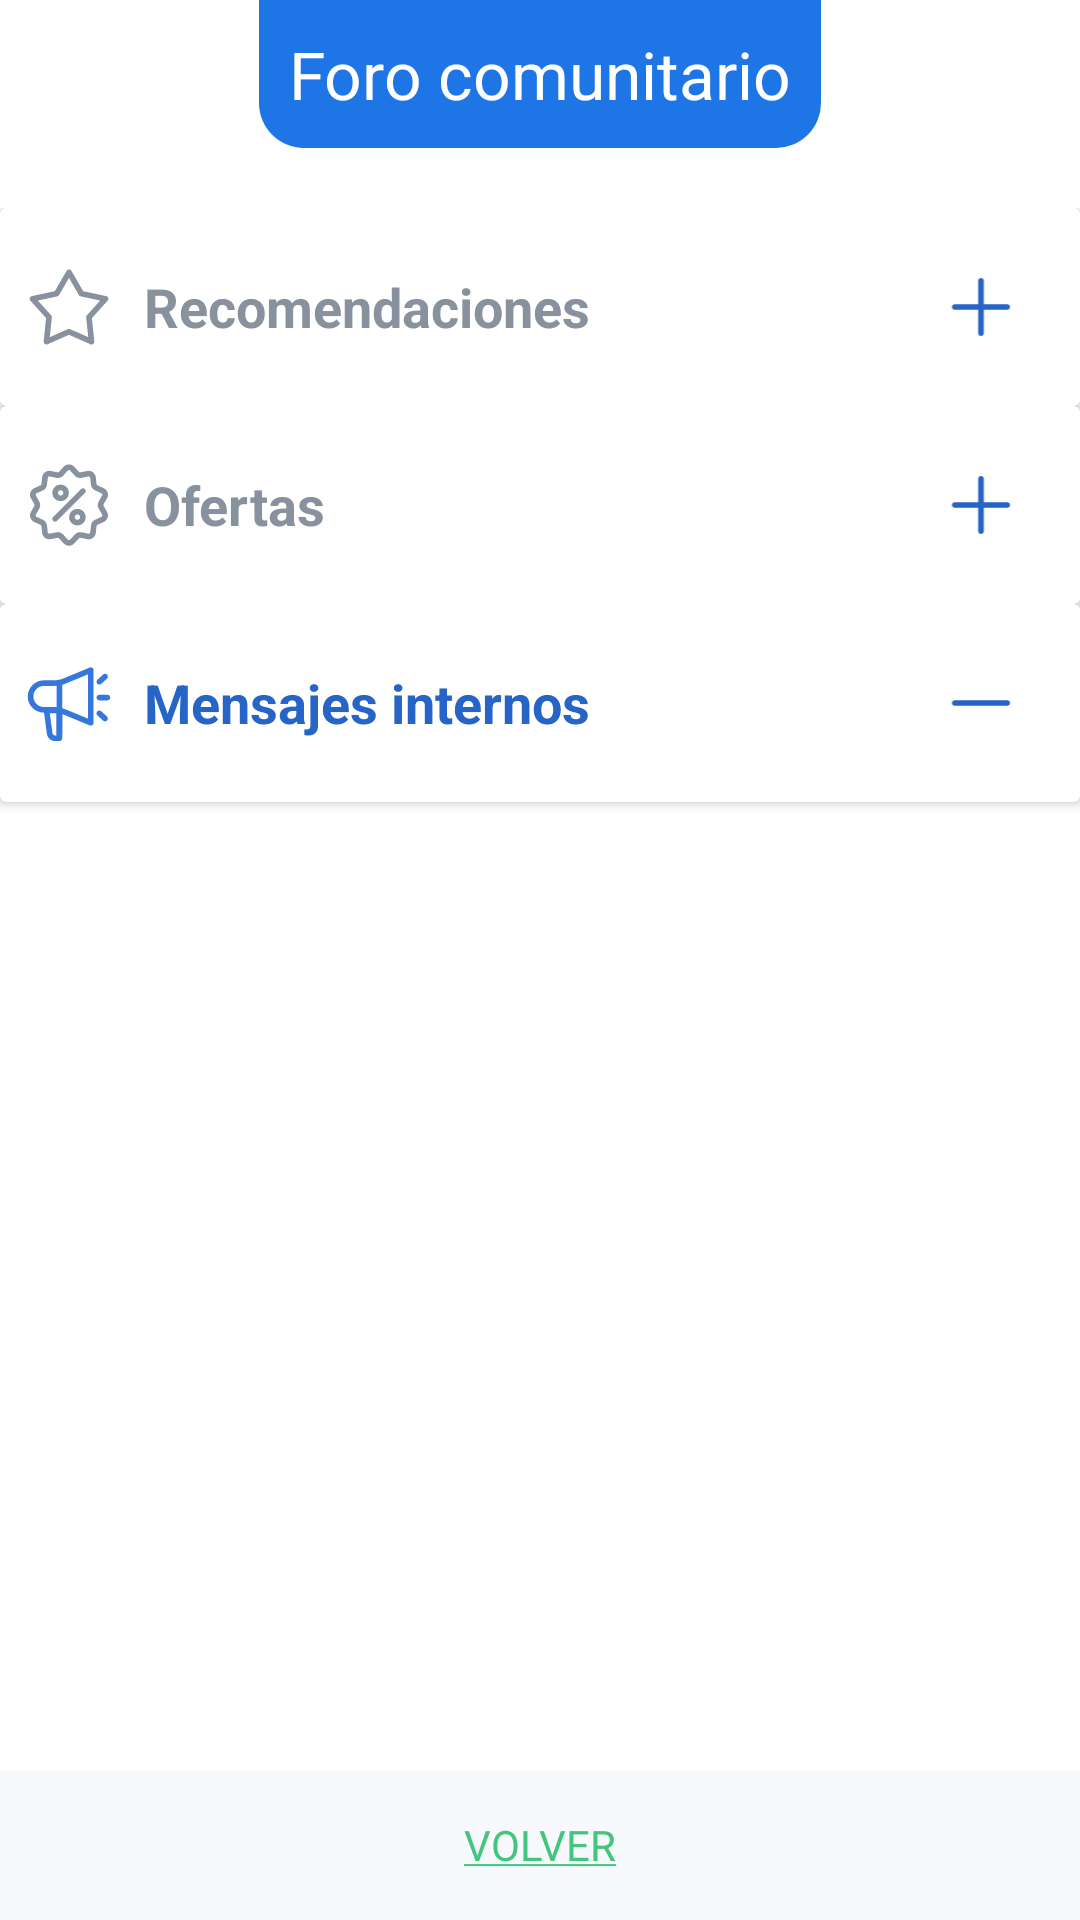

Icon click points for this 1080 × 1920 phone screenshot, format (x=x, y=y):
pedido mas: (x=981, y=307), (x=981, y=505)
